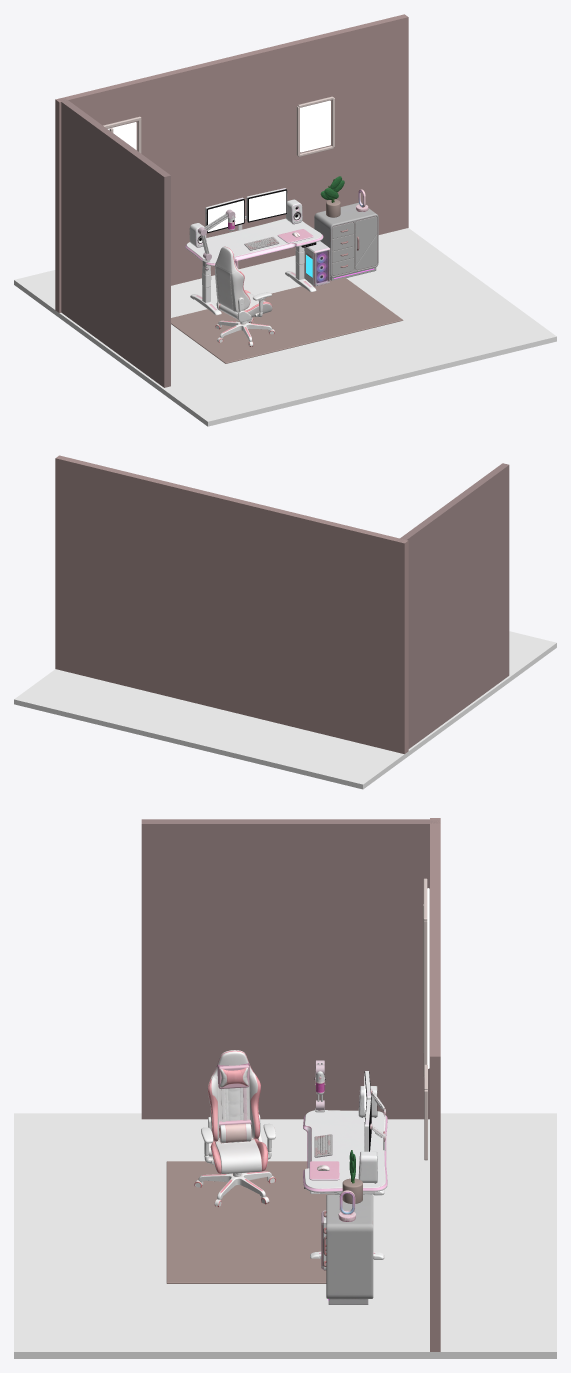
3 renders of one model, top to bottom at view 1: azimuth 30°, elevation 25°; view 2: azimuth 150°, elevation 25°; view 3: azimuth 270°, elevation 25°, orthographic. The views are drawn at different scales.
Parts seen in each view (by area): view 1: Architecture_Back_Wall, Architecture_Floor, Architecture_Left_Wall, Decor_Rug, GEO_Desk_Moving_Top, GEO_Chair_Swivel_Upper, GEO_Cabinet_Body, Wall_Art_Art, GEO_Door_Right_Front, 04-pc-tower_mesh_01, Screen_Right, GEO_Desk_Fixed_Base (+2 smaller); view 2: Architecture_Back_Wall, Architecture_Left_Wall, Architecture_Floor; view 3: Architecture_Floor, Architecture_Left_Wall, Decor_Rug, Architecture_Back_Wall, GEO_Chair_Swivel_Upper, GEO_Cabinet_Body, GEO_Desk_Moving_Top, GEO_Chair_Static_Base, Window_Frame_V.001.
Boxes of the visible parts, x1=… form: Architecture_Back_Wall: x1=55, y1=14, x2=408, y2=312; Architecture_Floor: x1=14, y1=228, x2=556, y2=426; Architecture_Left_Wall: x1=58, y1=98, x2=170, y2=387; Decor_Rug: x1=171, y1=277, x2=403, y2=363; GEO_Desk_Moving_Top: x1=185, y1=218, x2=323, y2=274; GEO_Chair_Swivel_Upper: x1=215, y1=246, x2=272, y2=321; GEO_Cabinet_Body: x1=314, y1=202, x2=378, y2=280; Wall_Art_Art: x1=300, y1=100, x2=330, y2=152; GEO_Door_Right_Front: x1=355, y1=216, x2=377, y2=270; 04-pc-tower_mesh_01: x1=304, y1=241, x2=330, y2=286; Screen_Right: x1=249, y1=191, x2=286, y2=221; GEO_Desk_Fixed_Base: x1=190, y1=263, x2=316, y2=315; Architecture_Back_Wall: x1=55, y1=455, x2=408, y2=753; Architecture_Left_Wall: x1=396, y1=463, x2=509, y2=748; Architecture_Floor: x1=14, y1=631, x2=556, y2=789; Architecture_Floor: x1=14, y1=1113, x2=556, y2=1358; Architecture_Left_Wall: x1=141, y1=819, x2=440, y2=1119; Decor_Rug: x1=166, y1=1161, x2=334, y2=1283; Architecture_Back_Wall: x1=430, y1=818, x2=440, y2=1351; GEO_Chair_Swivel_Upper: x1=201, y1=1050, x2=275, y2=1173; GEO_Cabinet_Body: x1=326, y1=1194, x2=373, y2=1304; GEO_Desk_Moving_Top: x1=303, y1=1110, x2=387, y2=1194; GEO_Chair_Static_Base: x1=194, y1=1171, x2=275, y2=1206; Window_Frame_V.001: x1=423, y1=921, x2=427, y2=1075.
Size of the model in its own units: 5.2 by 3.07 by 5.
Materials: 32 (13 with a texture image).
